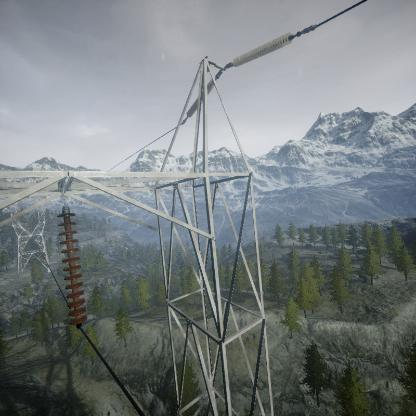insulator: (55, 206, 89, 327), (225, 31, 304, 70), (186, 79, 216, 117)
